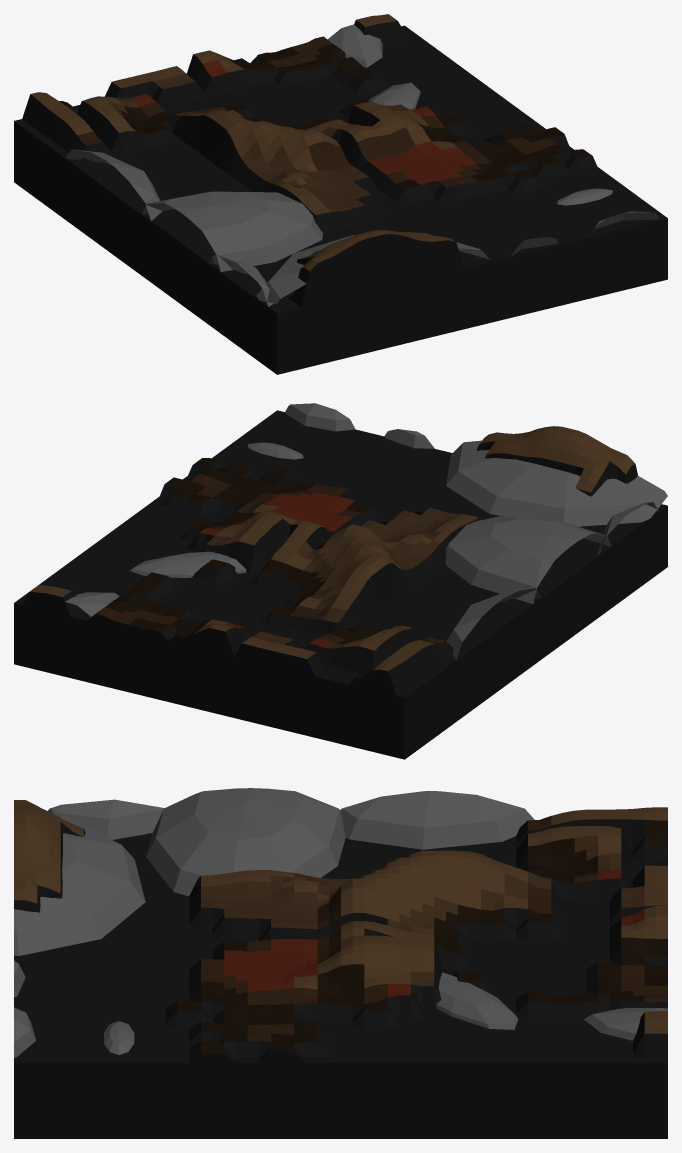
3 renders of one model, top to bottom at view 1: azimuth 30°, elevation 25°; view 2: azimuth 150°, elevation 25°; view 3: azimuth 270°, elevation 25°, orthographic. The views are drawn at different scales.
Parts seen in each view (by area): view 1: shapesz-t170; view 2: shapesz-t170; view 3: shapesz-t170.
Part boxes in pixels (<box>): shapesz-t170: <box>14,14,667,374</box>; shapesz-t170: <box>14,403,667,759</box>; shapesz-t170: <box>14,788,667,1138</box>.
Size of the model in its own units: 2 by 0.56 by 2.33.
